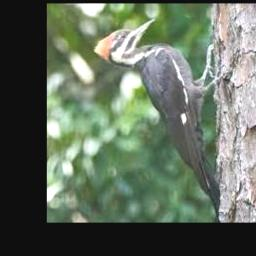Woodpecker: (93, 19, 222, 220)
